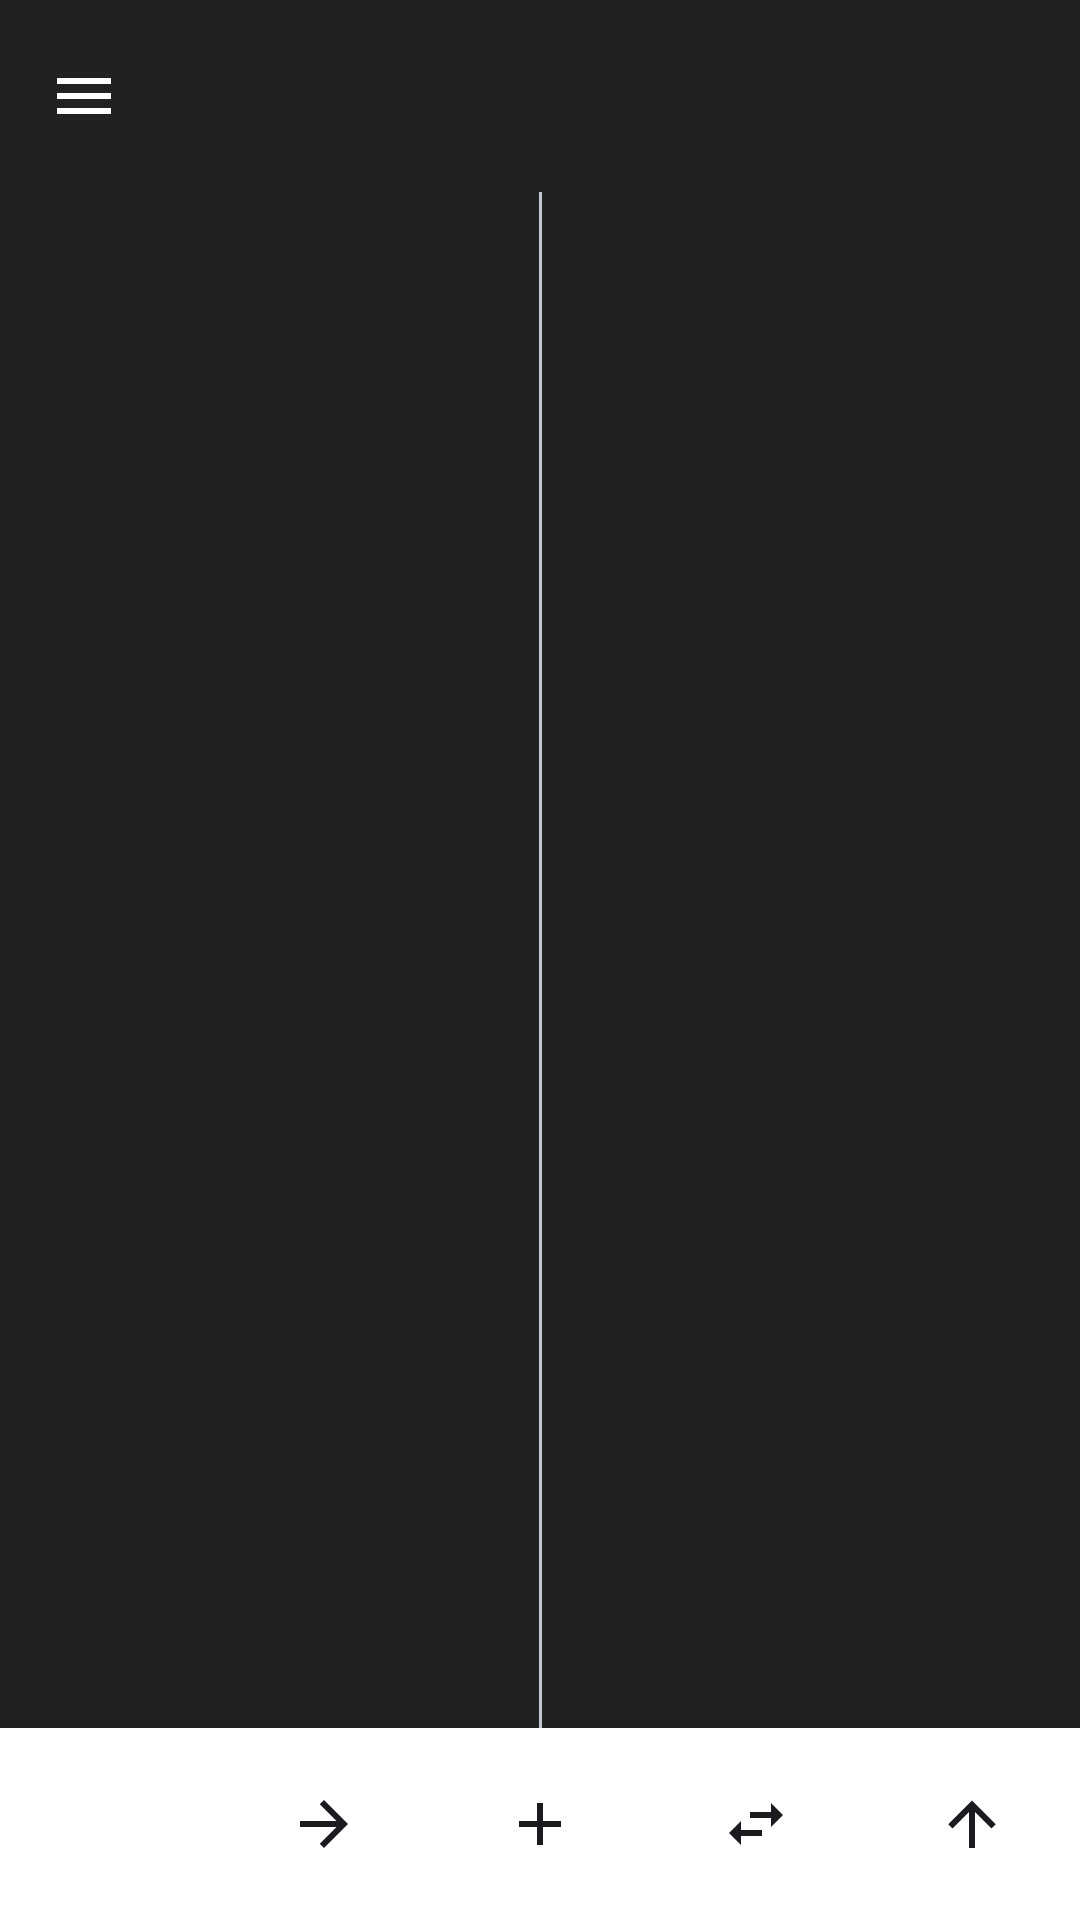

Where to tap for icons on this 1080 x 1920 app screen, as (x=x, y=y):
Forward: (x=324, y=1824)
New text file: (x=540, y=1824)
Swap panes: (x=756, y=1824)
Up: (x=972, y=1824)
